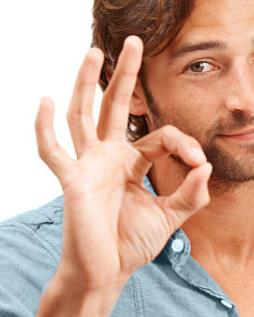left: (31, 31, 214, 282)
